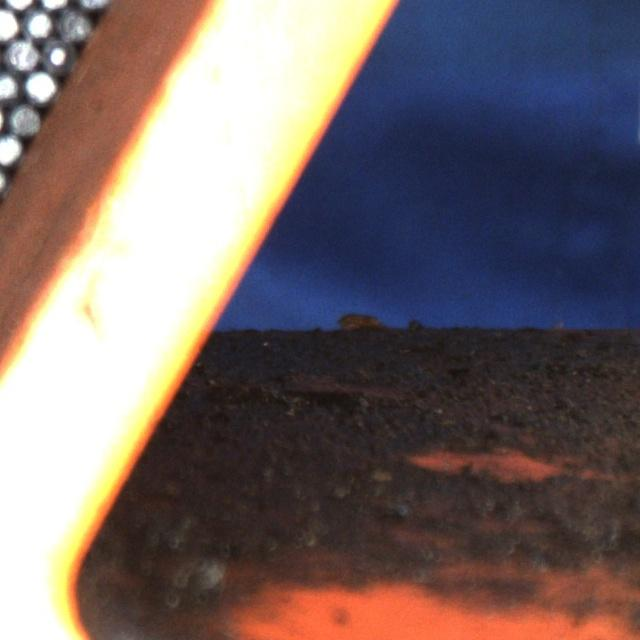tool: (3, 36, 38, 70), (8, 102, 42, 136), (55, 7, 90, 40), (23, 67, 56, 101), (20, 6, 53, 39), (39, 36, 71, 69), (0, 131, 23, 165), (0, 68, 21, 103), (0, 6, 19, 41)
